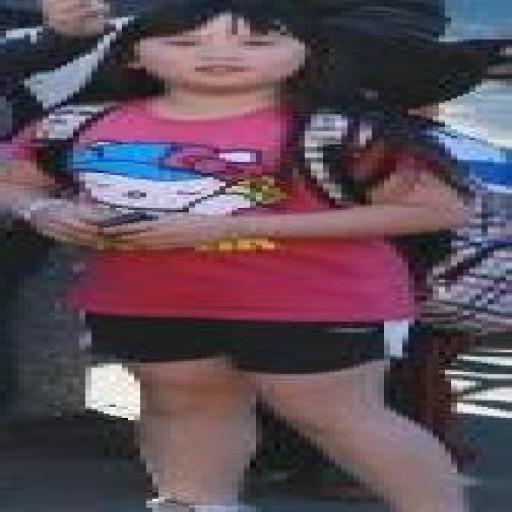person: (0, 0, 469, 511), (0, 219, 48, 411)
